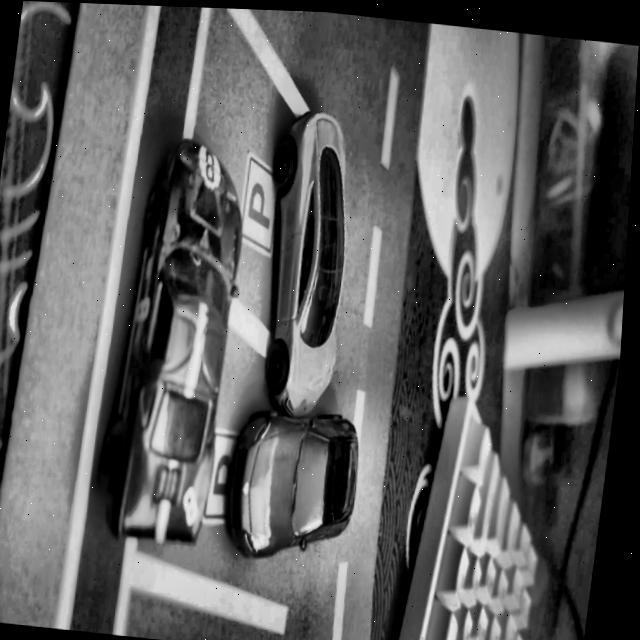car: (95, 130, 259, 547), (244, 103, 368, 419), (226, 398, 371, 565)
